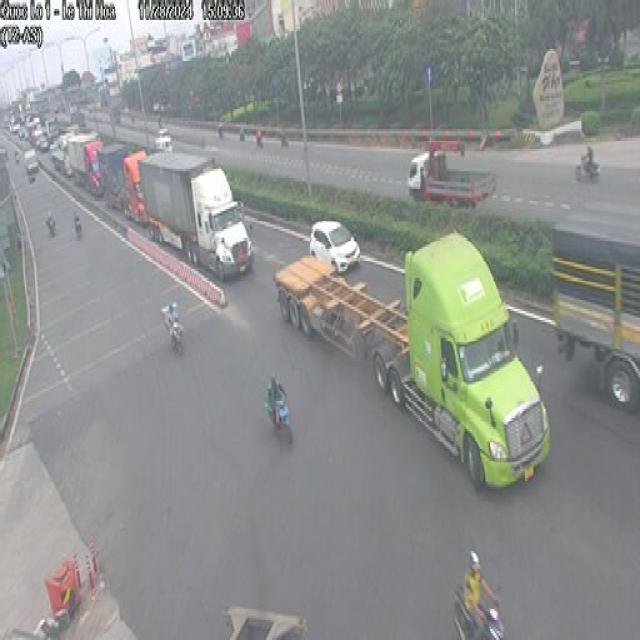container-truck: (276, 219, 553, 496), (140, 149, 260, 289), (96, 144, 159, 225)
truck: (544, 193, 640, 421)
